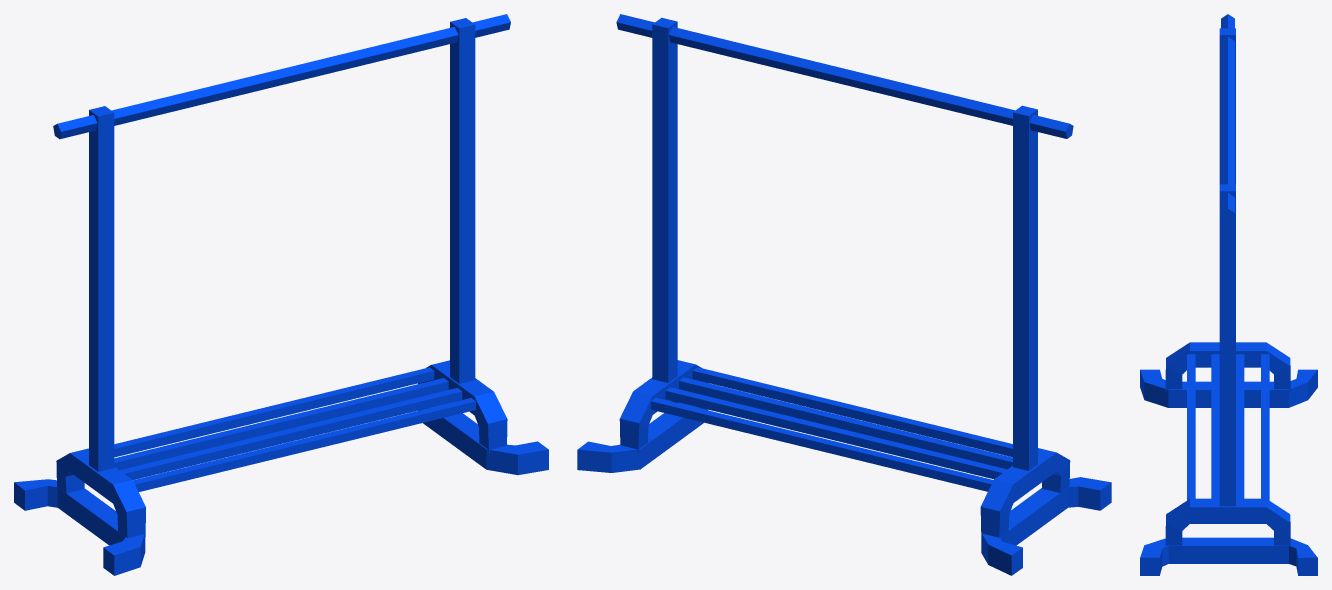
File: study_rack_clothes_1_meshCollider.fbx
The picture shows the model from 3 angles, left to right: view 1: azimuth 30°, elevation 25°; view 2: azimuth 150°, elevation 25°; view 3: azimuth 270°, elevation 25°; orthographic projection. The views are drawn at different scales.
Parts seen in each view (by area): view 1: study_rack_clothes_1_meshCollider; view 2: study_rack_clothes_1_meshCollider; view 3: study_rack_clothes_1_meshCollider.
Part boxes in pixels (<box>): study_rack_clothes_1_meshCollider: <box>14,14,548,575</box>; study_rack_clothes_1_meshCollider: <box>577,14,1111,575</box>; study_rack_clothes_1_meshCollider: <box>1140,14,1317,575</box>.
Bounding box in the file's own units: 97.61 × 86.99 × 37.65.
